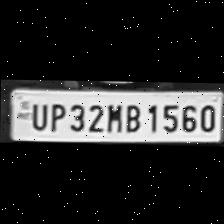0: (196, 100, 216, 131)
1: (142, 100, 160, 131)
2: (84, 99, 104, 130)
3: (65, 99, 85, 130)
5: (157, 99, 179, 131)
6: (178, 100, 196, 131)
B: (120, 100, 142, 132)
M: (104, 99, 122, 131)
P: (46, 98, 66, 130)
U: (26, 98, 48, 129)
